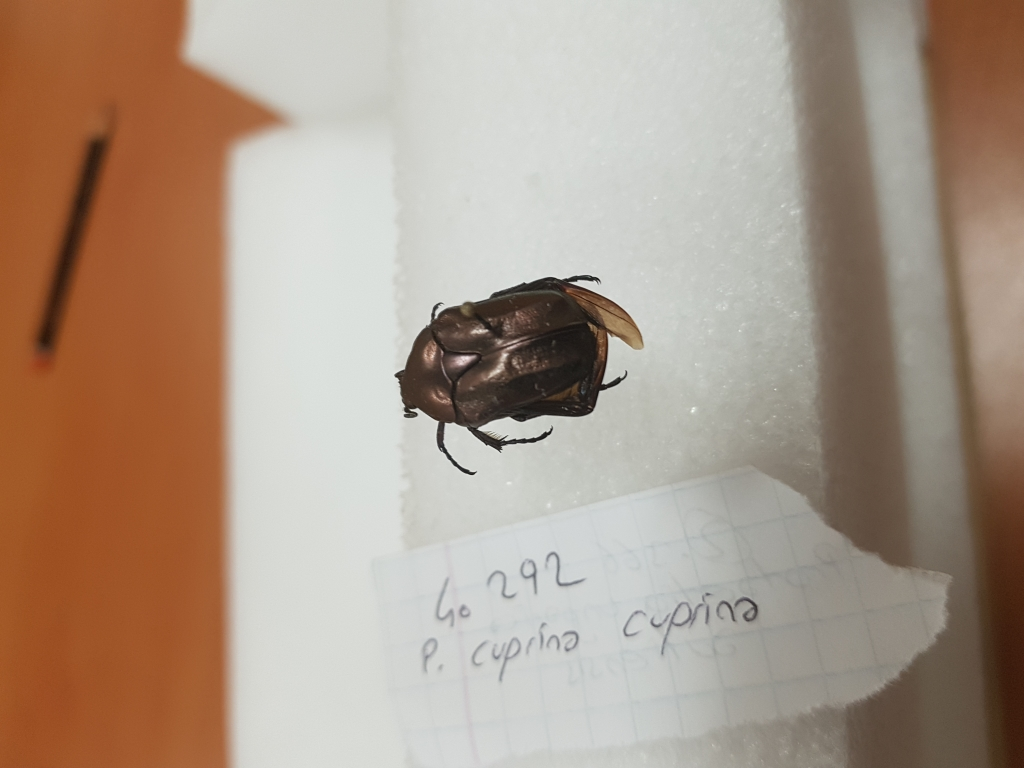Protaetia_cuprina_cuprina: (385, 264, 651, 479)
